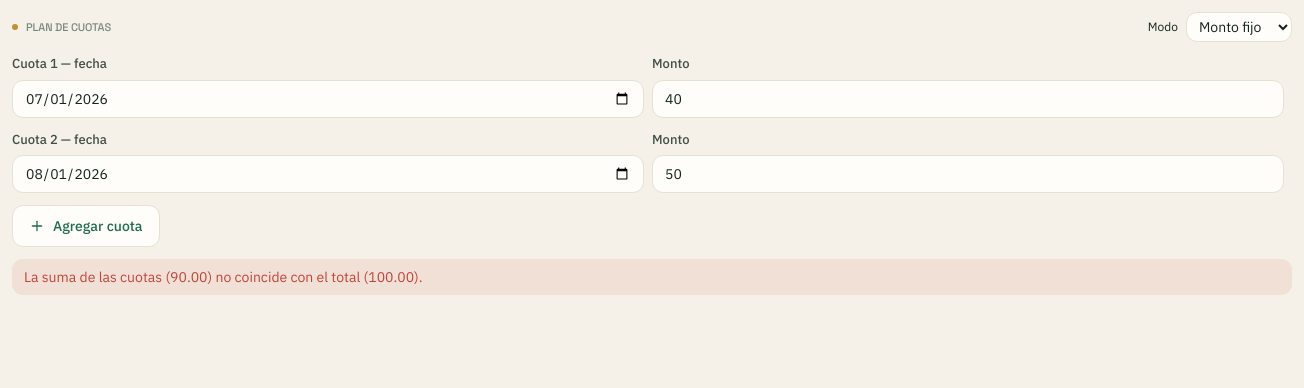
Test case: CuotasBuilder › permite agregar una cuota
Click the button "Agregar cuota" at (86, 226), box [12, 205, 160, 247]
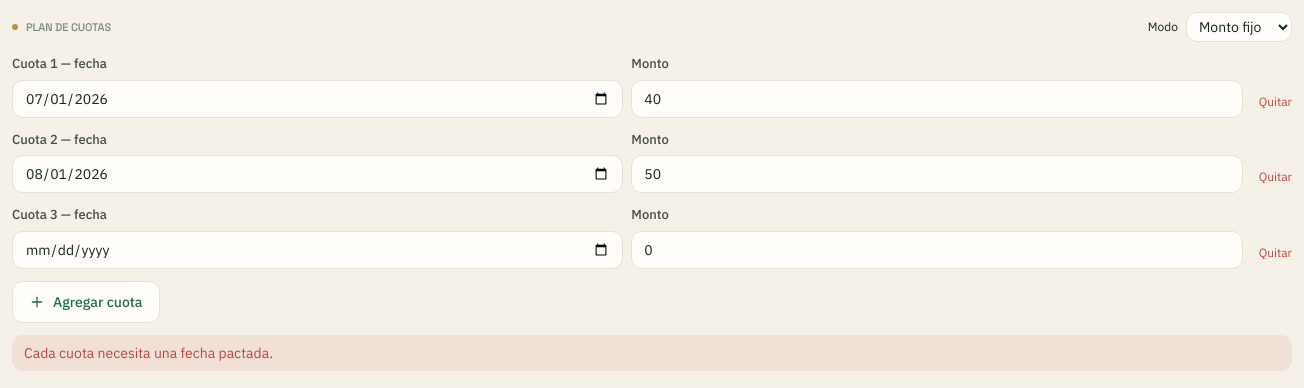
Expected: the number of date fields labelled "Cuota 1 — fecha" is 3, [12, 80, 623, 118]; [12, 155, 623, 193]; [12, 230, 623, 268]
